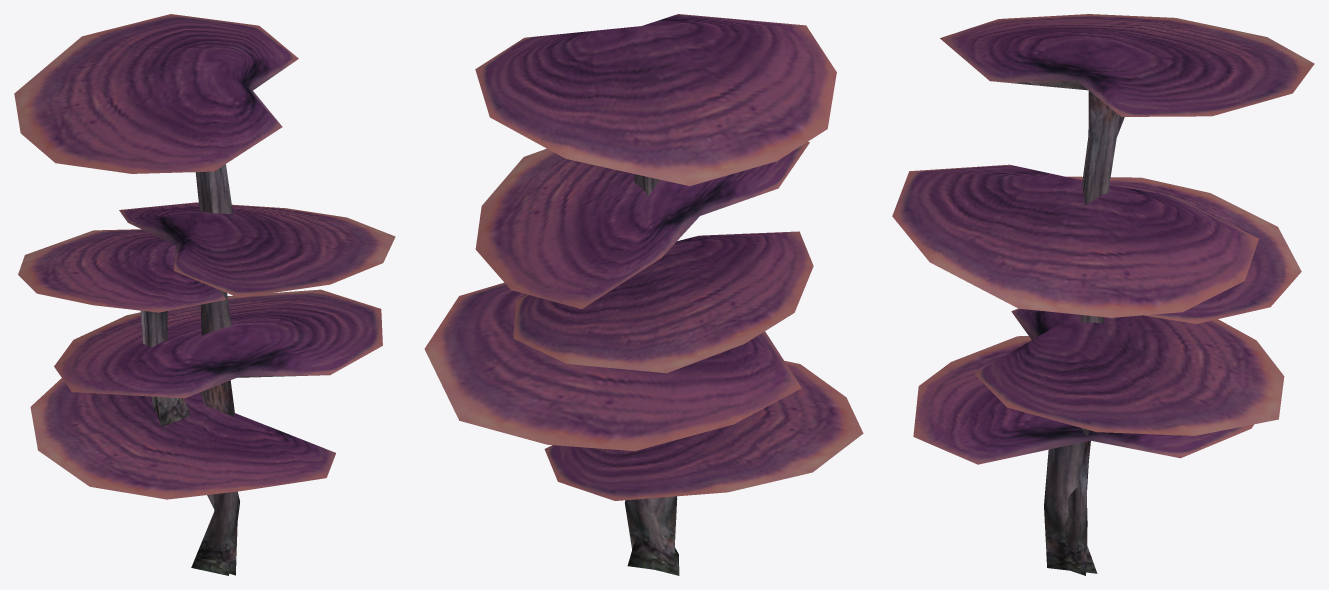
Rendered from guan_mu_024.FBX.
3 renders of one model, left to right at view 1: azimuth 30°, elevation 25°; view 2: azimuth 150°, elevation 25°; view 3: azimuth 270°, elevation 25°, orthographic. The views are drawn at different scales.
Parts seen in each view (by area): view 1: guan_mu_024_b, guan_mu_024_a; view 2: guan_mu_024_b, guan_mu_024_a; view 3: guan_mu_024_b, guan_mu_024_a.
Boxes of the visible parts, bbox=[...] form: guan_mu_024_b: bbox=[14, 14, 395, 575]; guan_mu_024_a: bbox=[18, 229, 335, 575]; guan_mu_024_b: bbox=[424, 14, 836, 572]; guan_mu_024_a: bbox=[513, 231, 863, 575]; guan_mu_024_b: bbox=[892, 14, 1314, 573]; guan_mu_024_a: bbox=[913, 176, 1301, 575].
Size of the model in its own units: 115 by 164 by 119.
